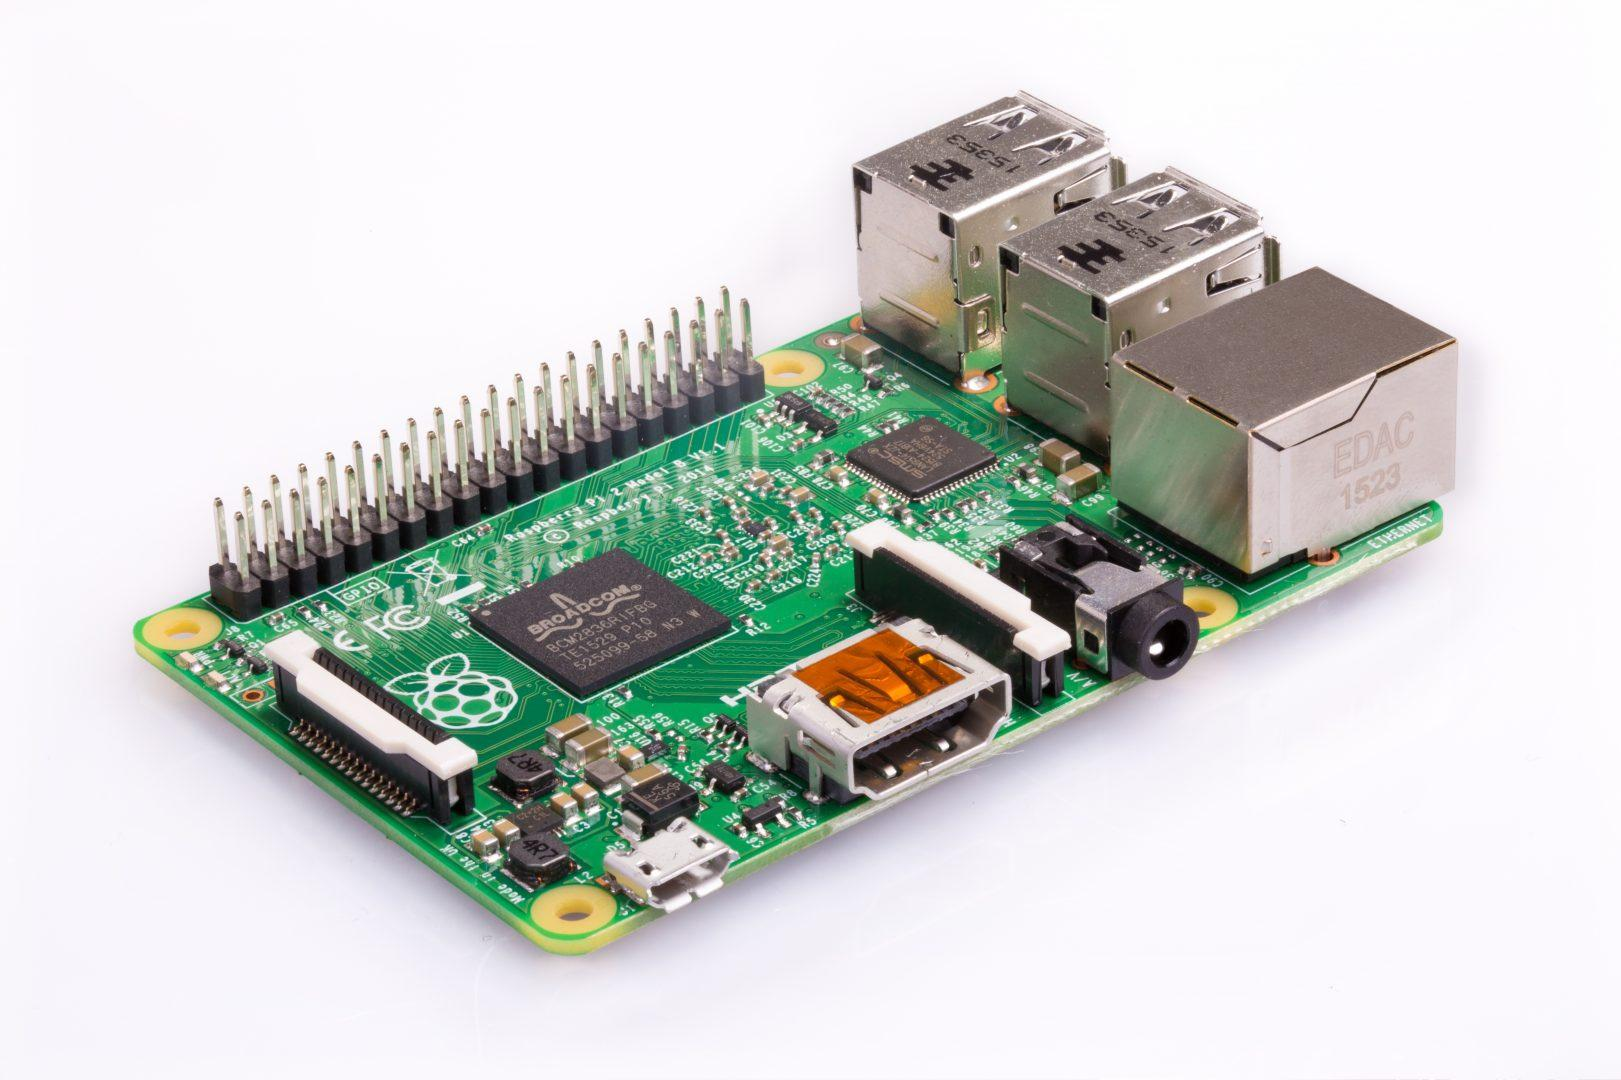audiojack: (992, 511, 1202, 669)
bchi: (463, 536, 726, 698)
ethernet: (1106, 268, 1462, 559)
gpio: (207, 290, 769, 614)
usb: (1006, 171, 1278, 448), (852, 90, 1106, 385)
